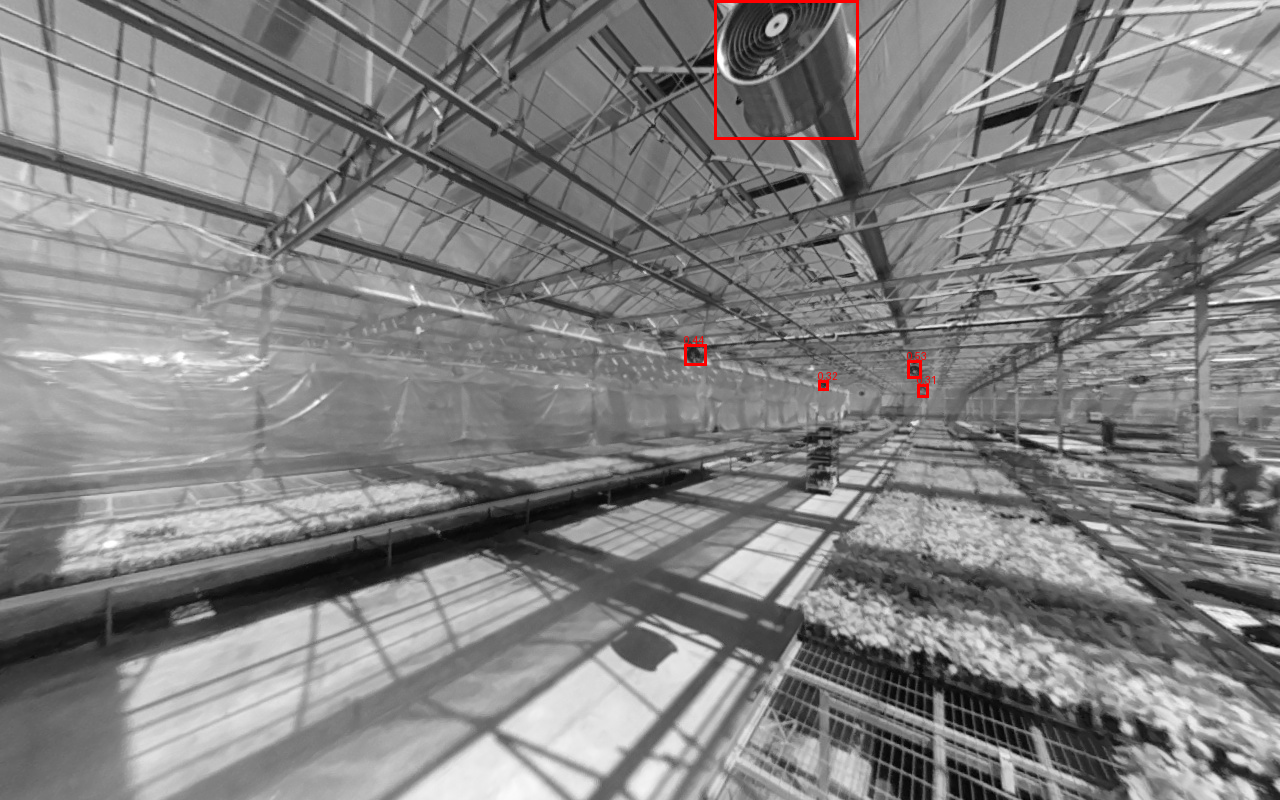fan: (699, 1, 884, 145), (677, 341, 713, 371), (1125, 371, 1154, 390), (904, 363, 923, 381), (816, 378, 835, 392)
